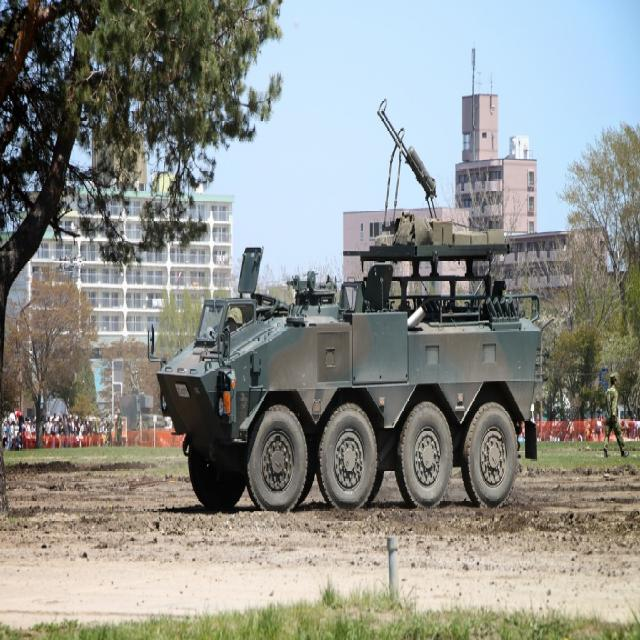tank: (146, 96, 546, 508)
